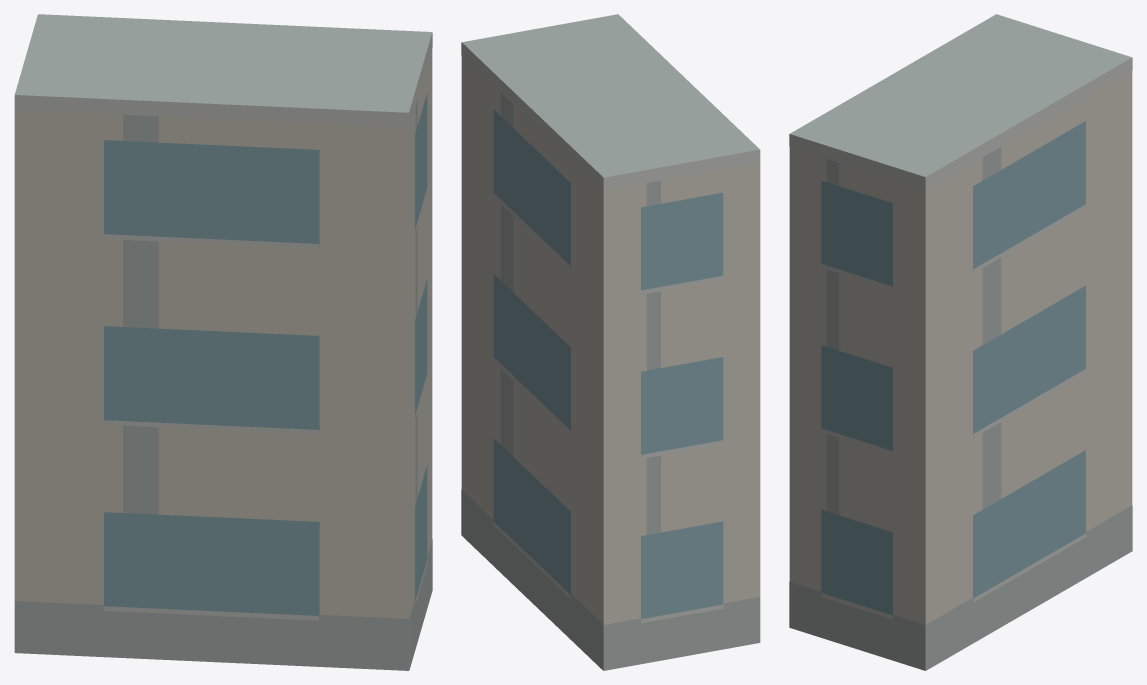
Rendered from survey-upis-32571550.glb.
3 views of the same model, side by side, from view 1: azimuth 30°, elevation 25°; view 2: azimuth 150°, elevation 25°; view 3: azimuth 270°, elevation 25° (orthographic). The views are drawn at different scales.
Visible parts, largest first — view 1: survey-upis-32571550.tmp; view 2: survey-upis-32571550.tmp; view 3: survey-upis-32571550.tmp.
Part boxes in pixels (left/top/right/bottom): survey-upis-32571550.tmp: left=14, top=14, right=432, bottom=670; survey-upis-32571550.tmp: left=461, top=14, right=760, bottom=670; survey-upis-32571550.tmp: left=789, top=14, right=1132, bottom=670.
Bounding box in the file's own units: 6.49 × 9.15 × 5.77.
